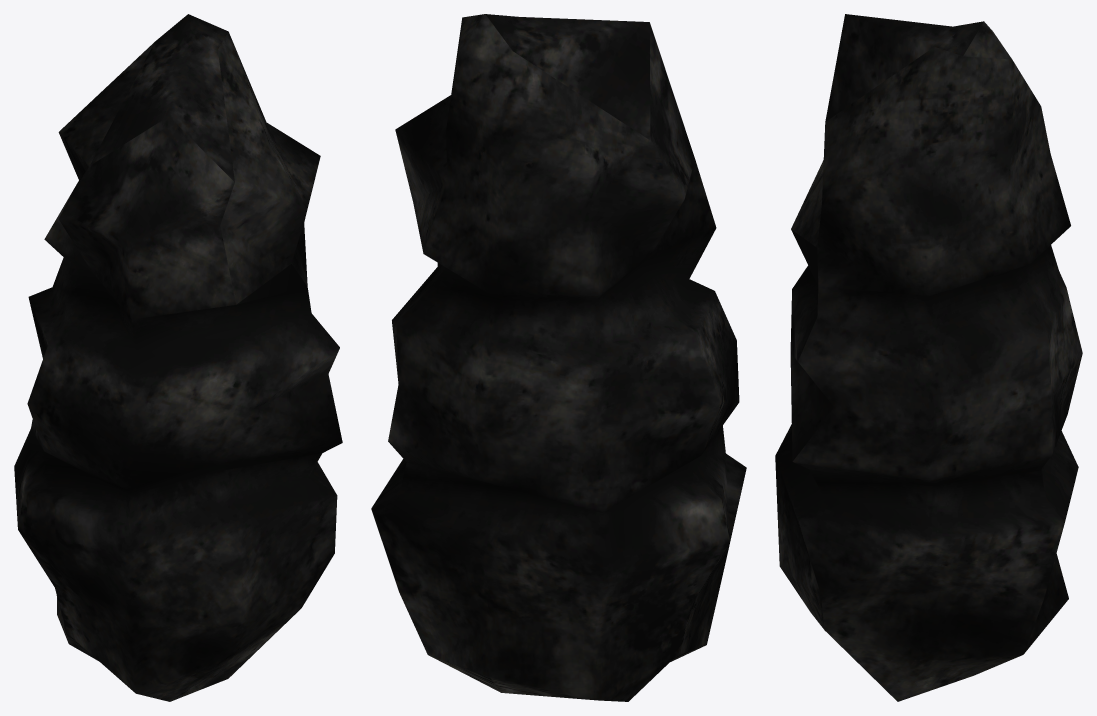
Rendered from monolith01.dae.
The picture shows the model from 3 angles, left to right: view 1: azimuth 30°, elevation 25°; view 2: azimuth 150°, elevation 25°; view 3: azimuth 270°, elevation 25°; orthographic projection. The views are drawn at different scales.
Visible parts, largest first — view 1: monolith01; view 2: monolith01; view 3: monolith01.
Boxes of the visible parts, x1,y1,x2,y2 form: monolith01: [14, 14, 342, 701]; monolith01: [371, 14, 746, 701]; monolith01: [775, 14, 1082, 701].
Bounding box in the file's own units: 1.91 × 3.79 × 1.55.
